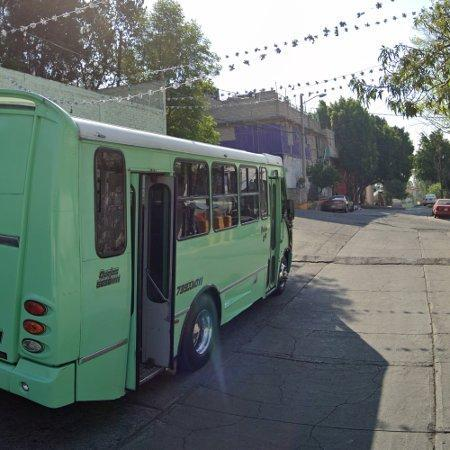buses: (0, 90, 293, 409)
